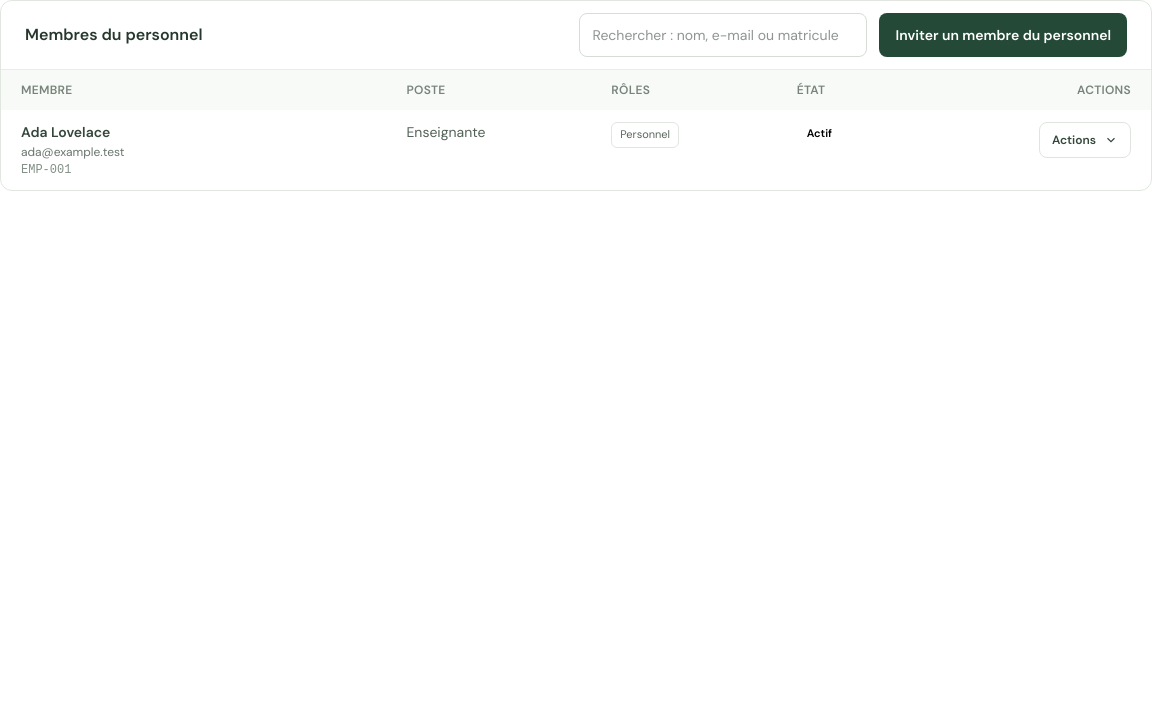
Test: EmployeeListComponent › affiche les erreurs de modification dans la modale et conserve la saisie
Click the button "Actions": (1085,140) [1039,122,1131,158]
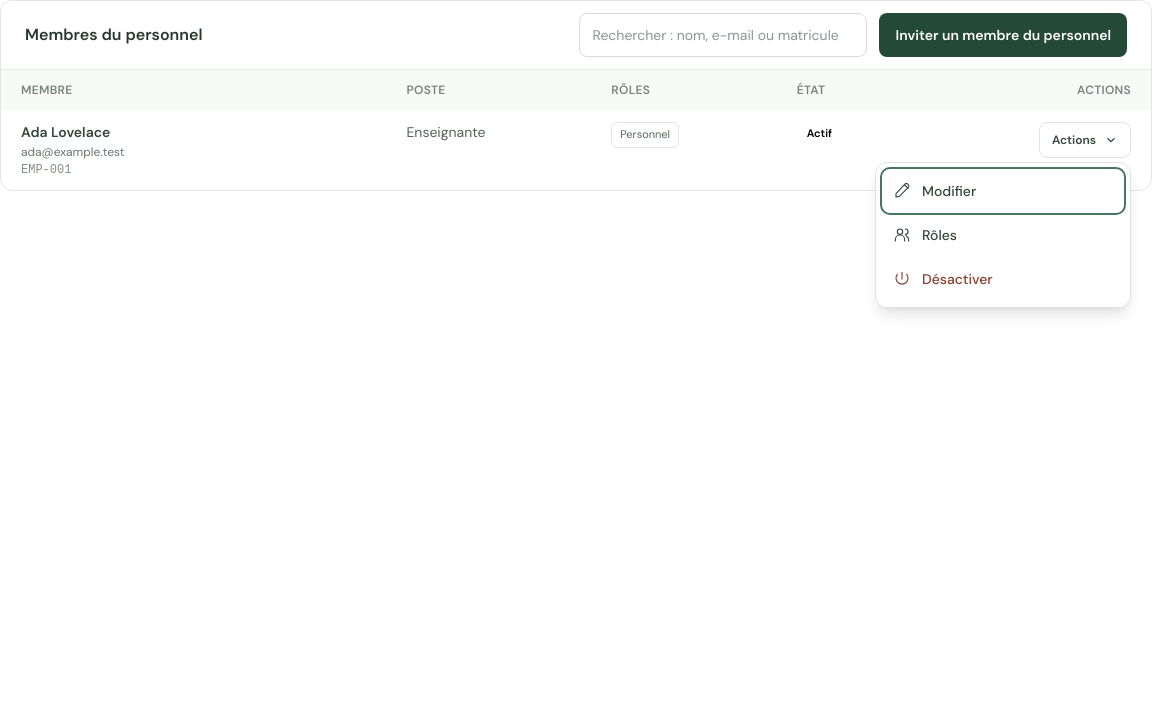
Click the menu item "Modifier": (1003,191) [882,169,1124,213]
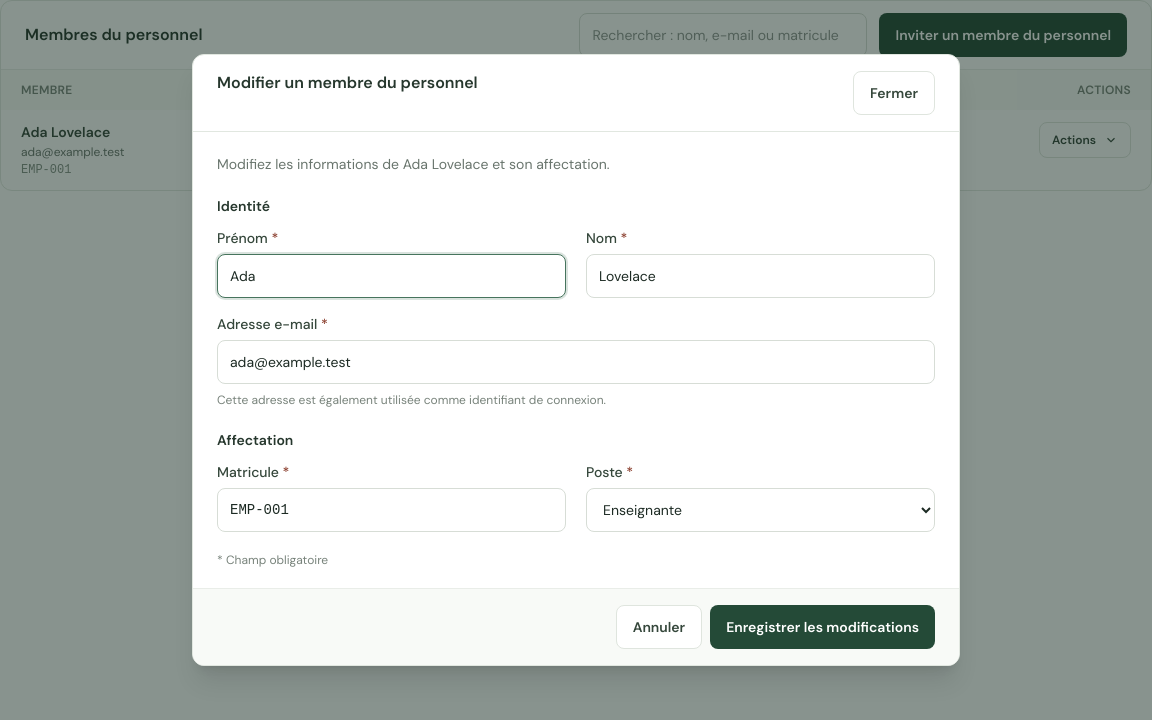
Replace the text in the field named "email" with "nouvelle@example.test": (576,362) [217,340,935,384]
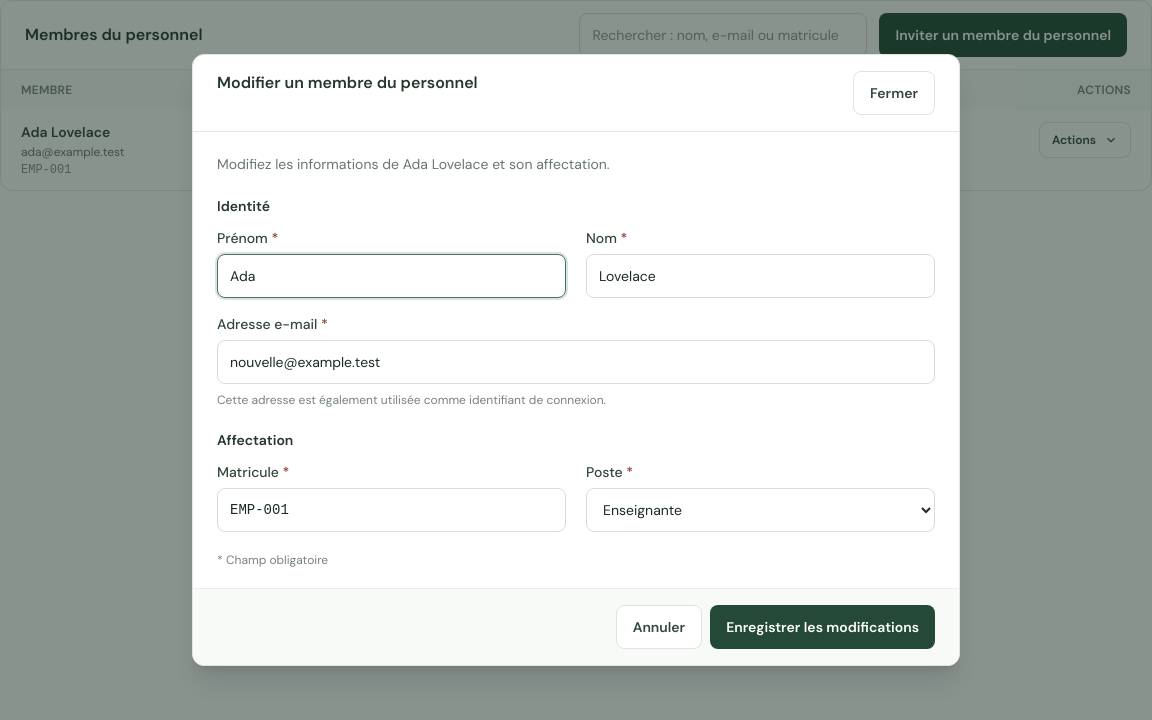
Submit the form, box [193,176,959,665]
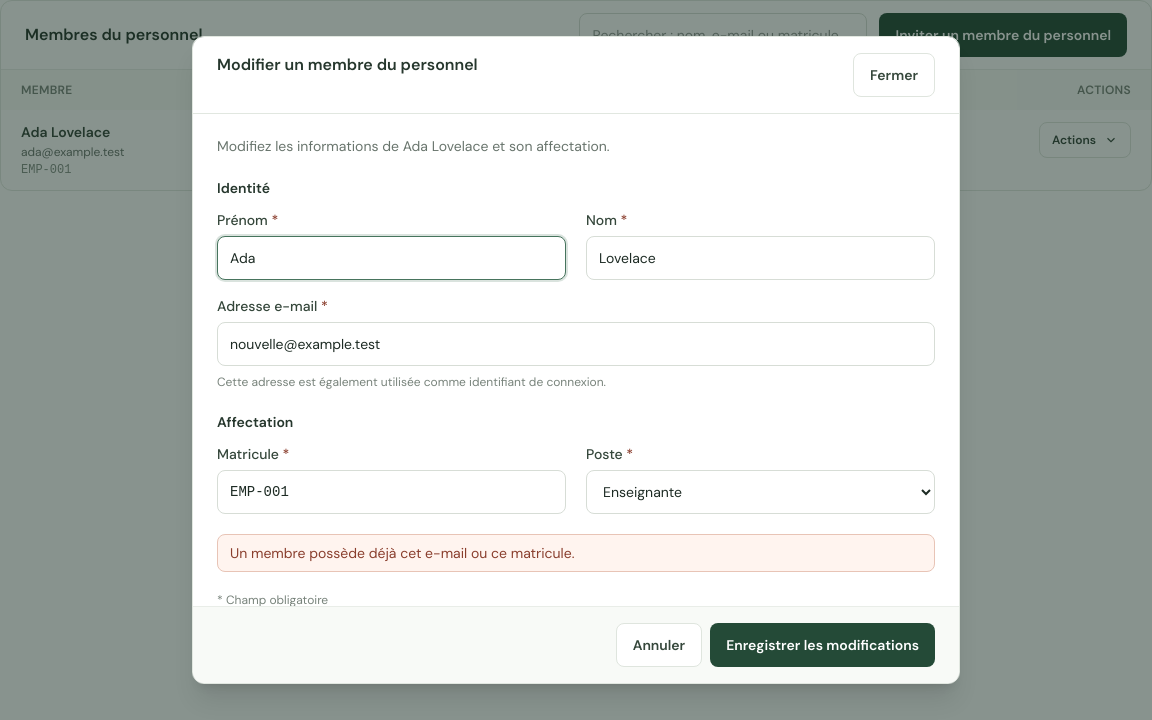
Now the button with aria-label "Fermer la fenêtre" is enabled, box [853,53,935,97]
Now the message with class "form-error" shows "déjà cet e-mail", box [230,544,574,562]
